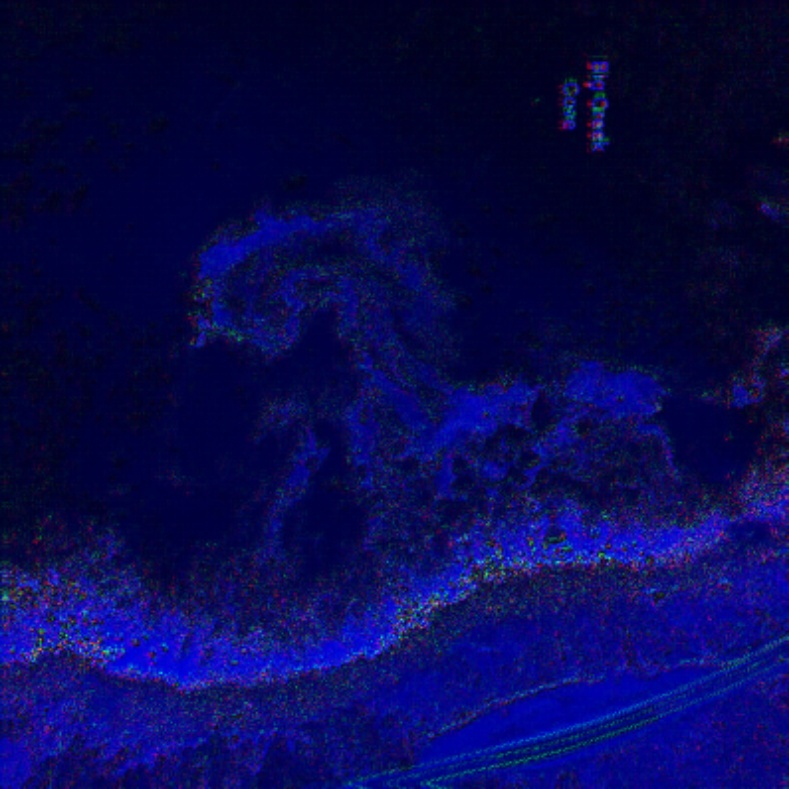rip_current: (178, 180, 499, 547)
